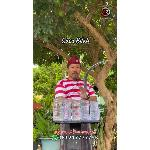Celurit: (78, 57, 118, 100)
